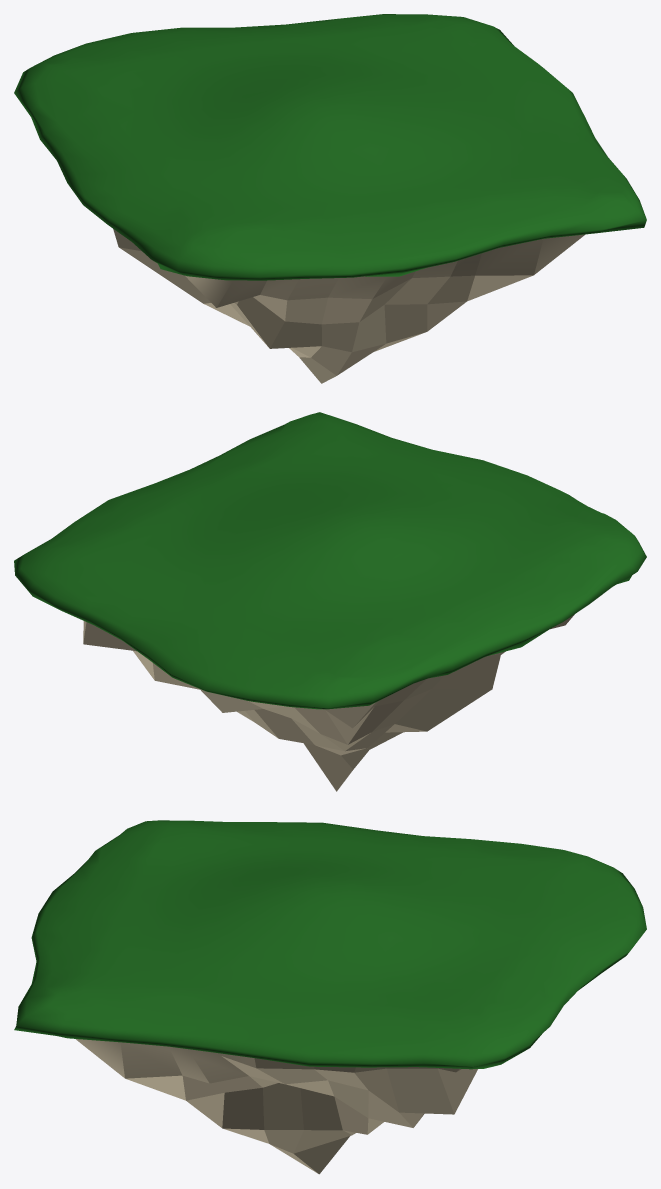
Rendered from SM_Island2.fbx.
3 views of the same model, one above another, from view 1: azimuth 30°, elevation 25°; view 2: azimuth 150°, elevation 25°; view 3: azimuth 270°, elevation 25° (orthographic). The views are drawn at different scales.
Visible parts, largest first — view 1: SM_Island8; view 2: SM_Island8; view 3: SM_Island8.
Boxes of the visible parts, x1,y1,x2,y2 form: SM_Island8: [14, 14, 646, 383]; SM_Island8: [14, 412, 646, 791]; SM_Island8: [14, 820, 646, 1174].
Bounding box in the file's own units: 40.95 × 22.22 × 45.68.
